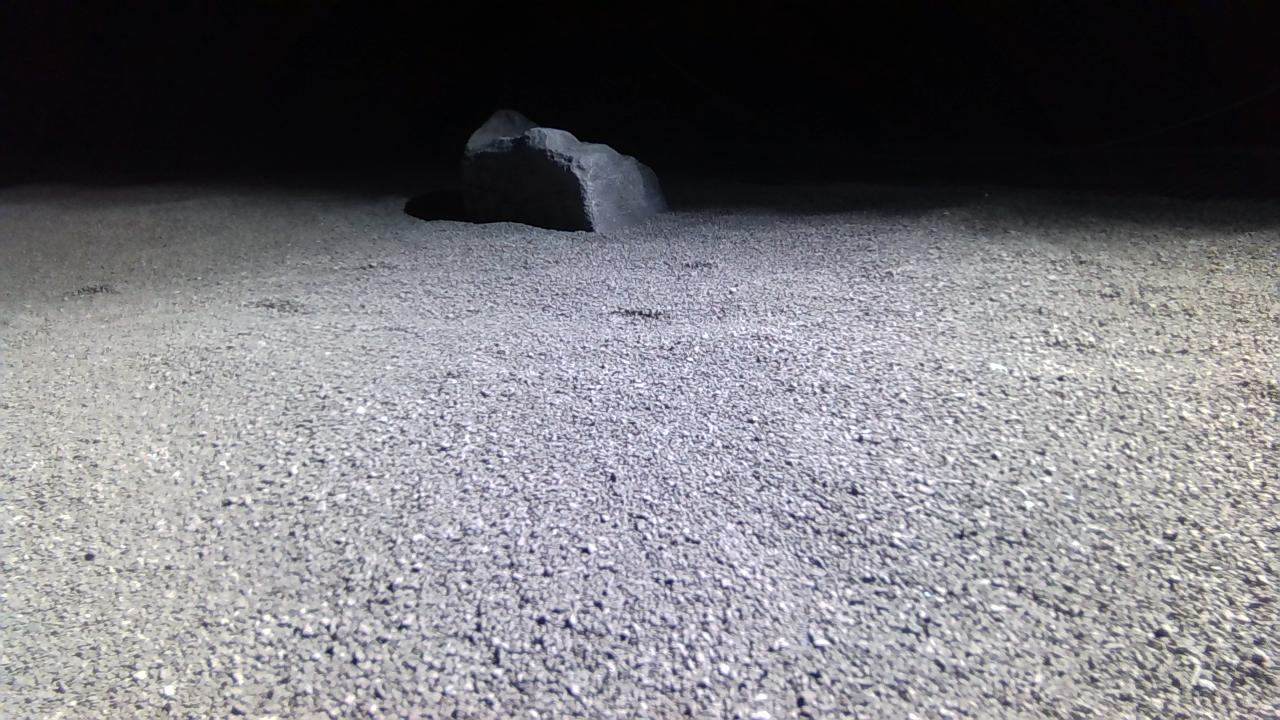rock: (463, 109, 668, 231)
